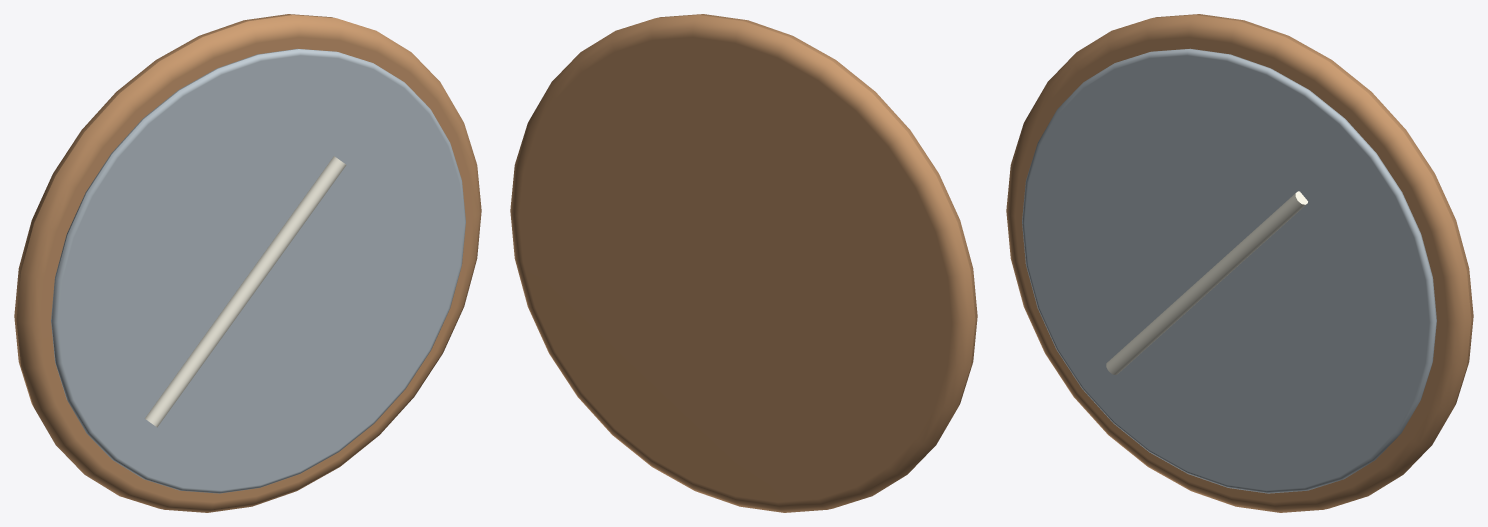
The model's file is bathroomMirror.glb.
3 views of the same model, side by side, from view 1: azimuth 30°, elevation 25°; view 2: azimuth 150°, elevation 25°; view 3: azimuth 330°, elevation 25° (orthographic).
Visible parts, largest first — view 1: Mirror, Mirror frame, Reflection; view 2: Mirror frame; view 3: Mirror, Mirror frame, Reflection.
Part boxes in pixels (box(x1,y1,x2,y2)): Mirror: box(51, 48, 465, 493); Mirror frame: box(14, 14, 481, 512); Reflection: box(145, 156, 346, 427); Mirror frame: box(510, 14, 977, 512); Mirror: box(1022, 48, 1436, 493); Mirror frame: box(1006, 14, 1473, 512); Reflection: box(1106, 191, 1307, 374).
Size of the model in its own units: 1.32 by 1.32 by 0.1375.
